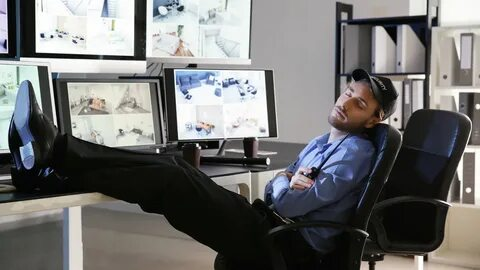sleep: (6, 68, 399, 256)
